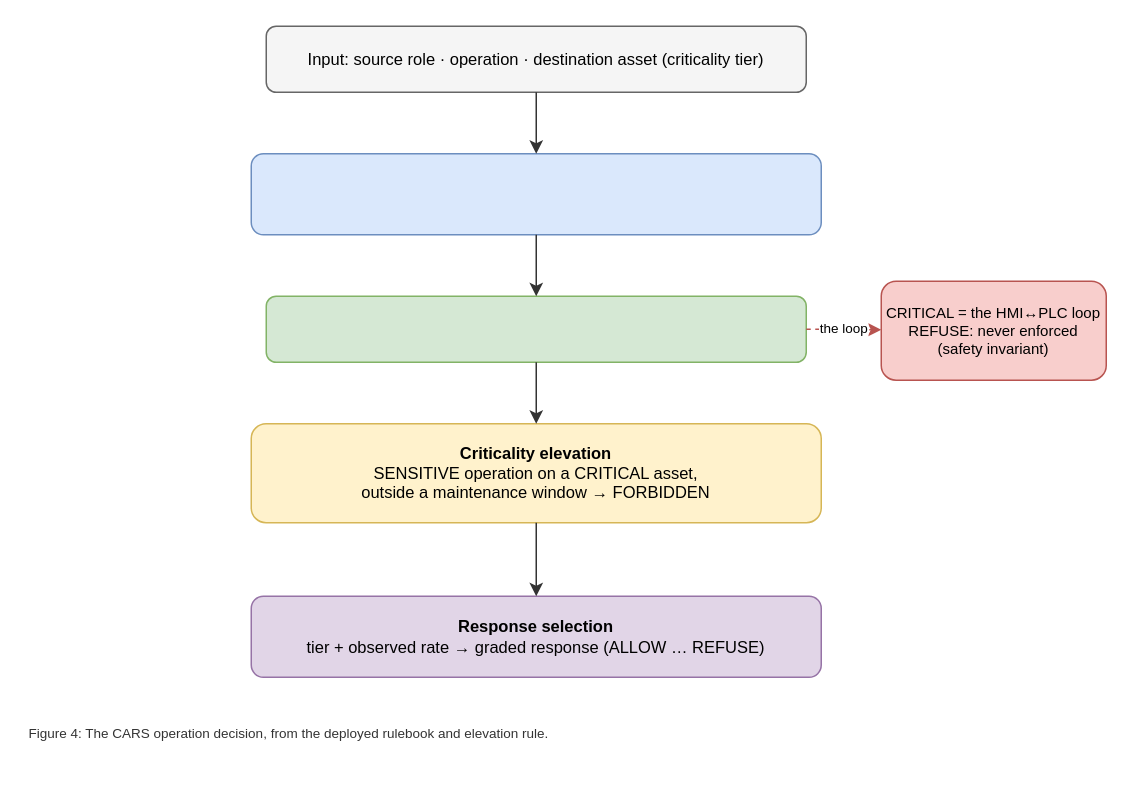
Image size: 1133x788. Some labels were removed from this diagram. The shapes that lost their labels are listed below. From the top down, each one's centre as x and y in pixels, then its label:
At (x=535, y=193): "Rulebook (first match wins) (source role, destination role, operation) → tier".
At (x=535, y=328): "Tier: CRITICAL | OPERATIONAL | SENSITIVE | FORBIDDEN".
